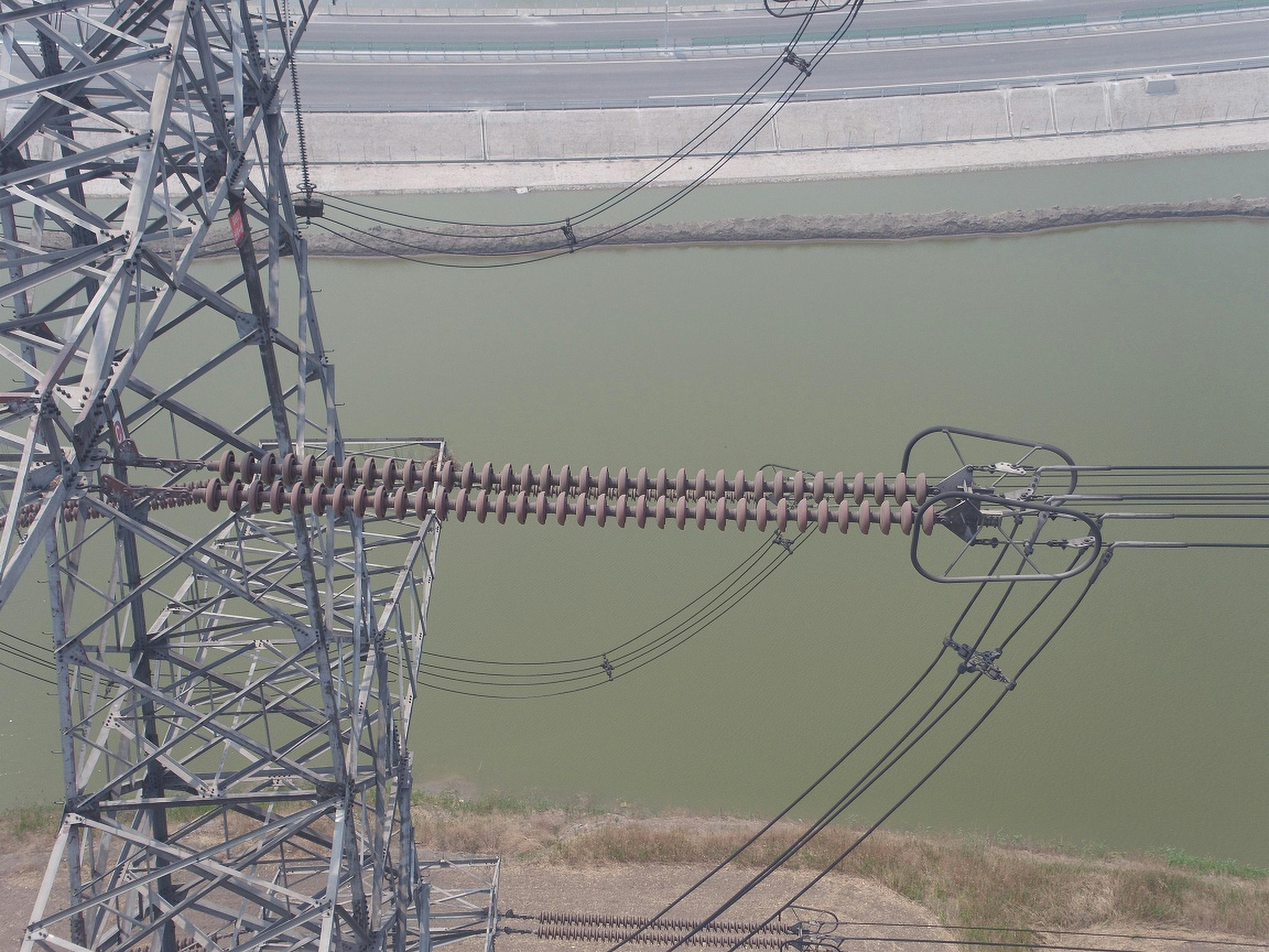insulator: (202, 447, 941, 539), (1, 477, 212, 532), (533, 908, 792, 951), (281, 1, 312, 189)
